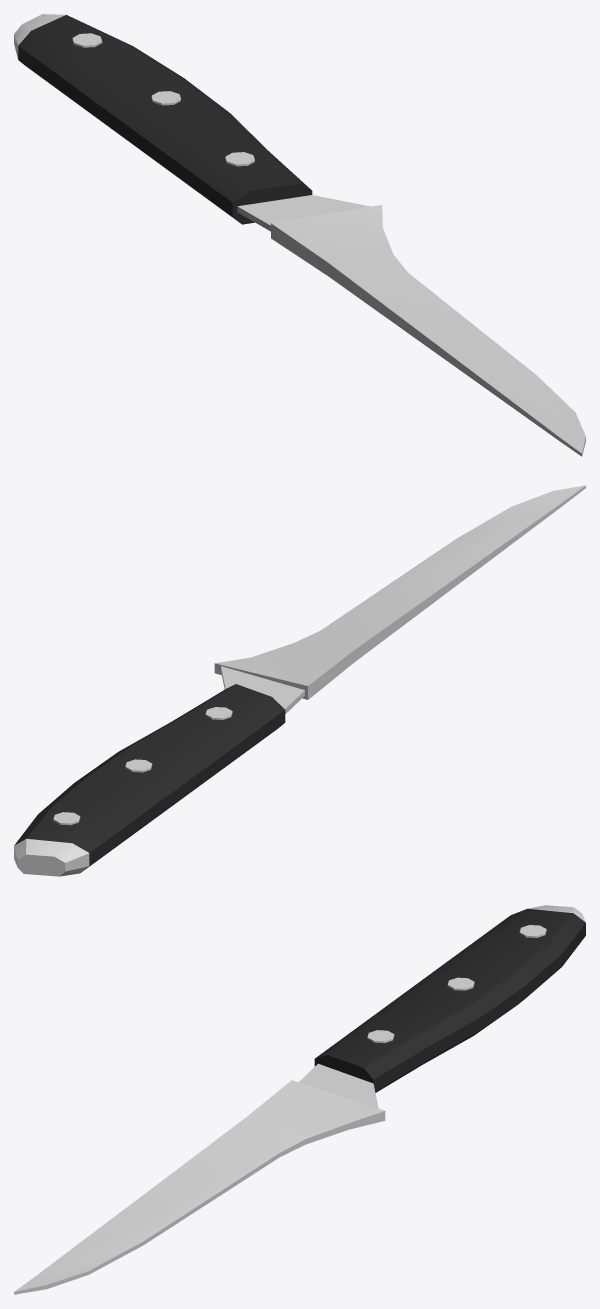
File: BoningKnife_01.fbx
The picture shows the model from 3 angles, top to bottom: view 1: azimuth 30°, elevation 25°; view 2: azimuth 150°, elevation 25°; view 3: azimuth 330°, elevation 25°; orthographic projection. The views are drawn at different scales.
Parts seen in each view (by area): view 1: BoningKnife_01; view 2: BoningKnife_01; view 3: BoningKnife_01.
Part boxes in pixels (bbox=[...]): BoningKnife_01: bbox=[14, 14, 585, 456]; BoningKnife_01: bbox=[14, 485, 585, 876]; BoningKnife_01: bbox=[14, 905, 585, 1294].
Bounding box in the file's own units: 0.0367 × 0.0113 × 0.324.
